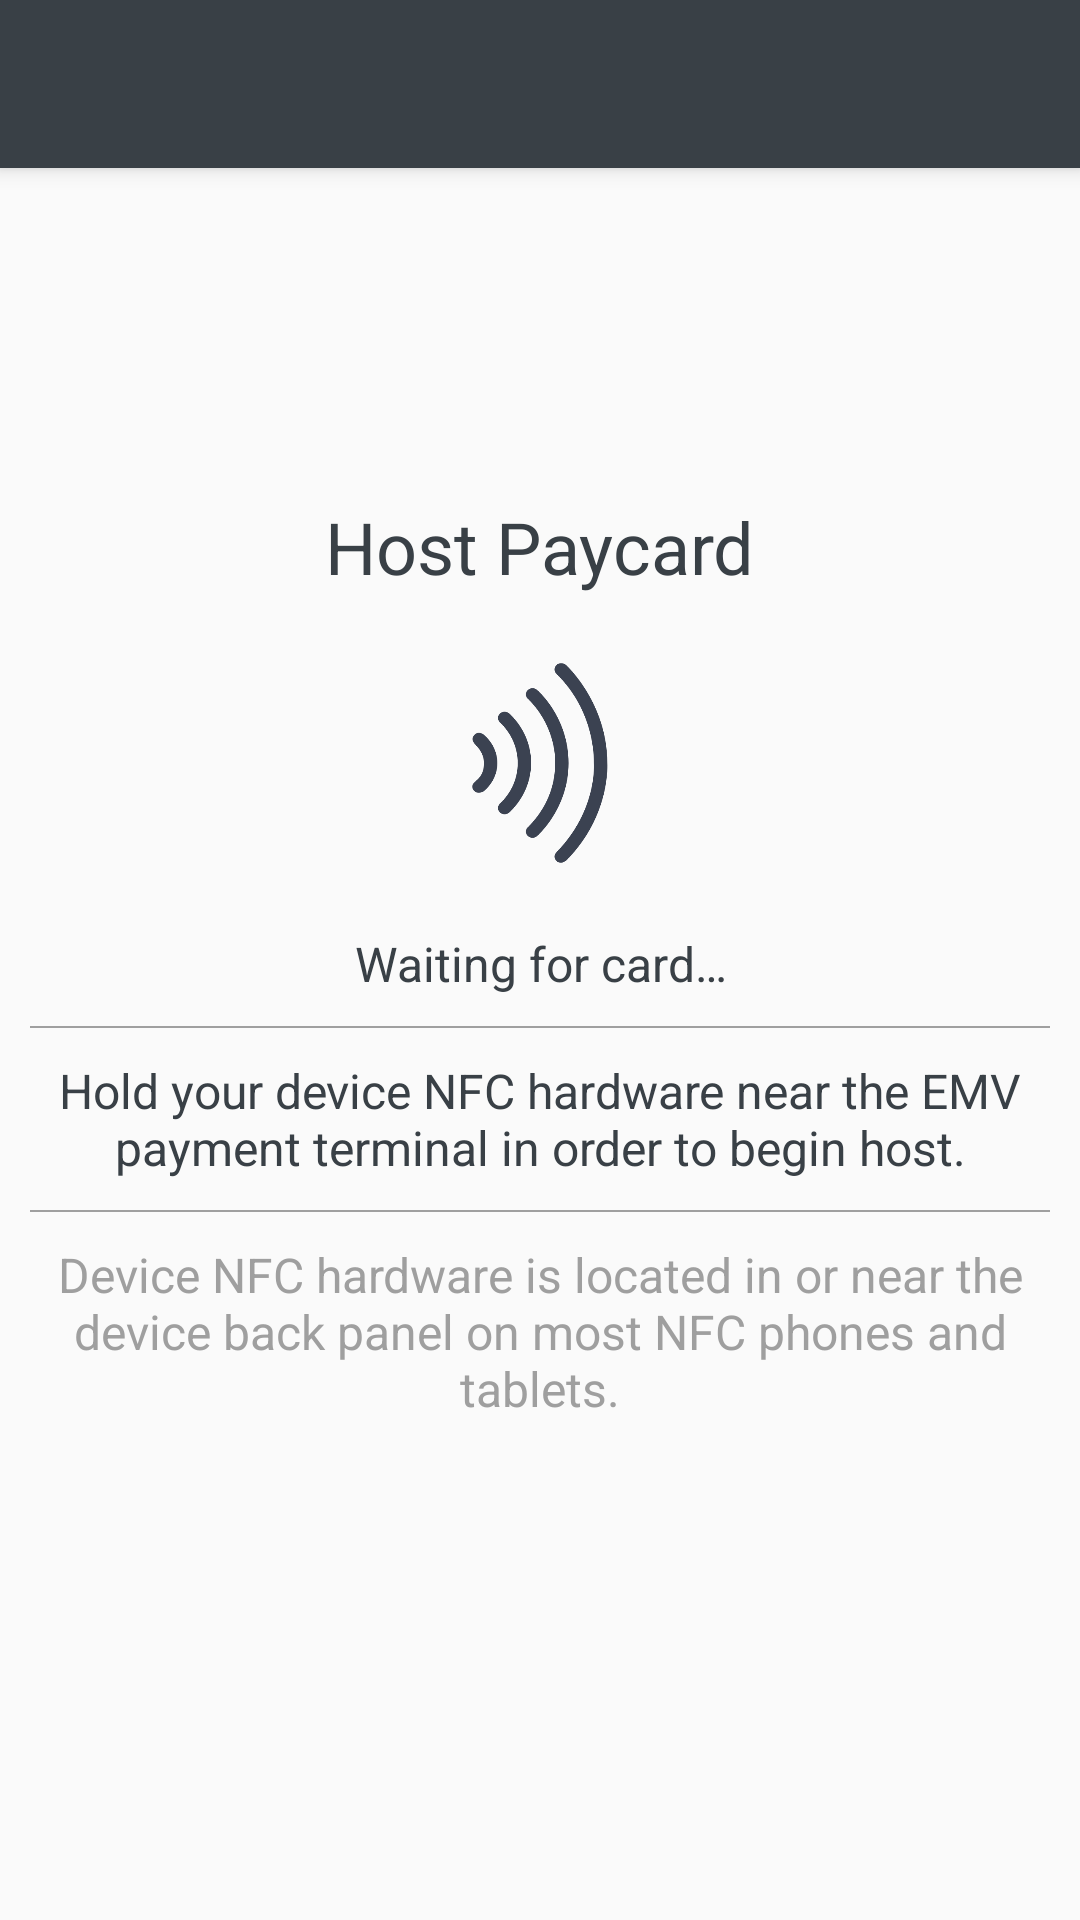

Screen size 1080×1920. Icon name, then its center in pixels as (x,y):
Contactless: (540,763)
